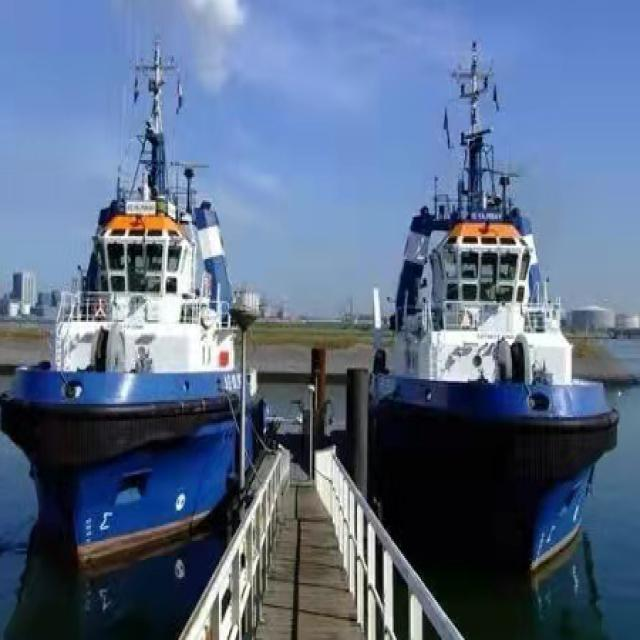houseboat: (0, 54, 262, 556), (360, 37, 612, 550)
